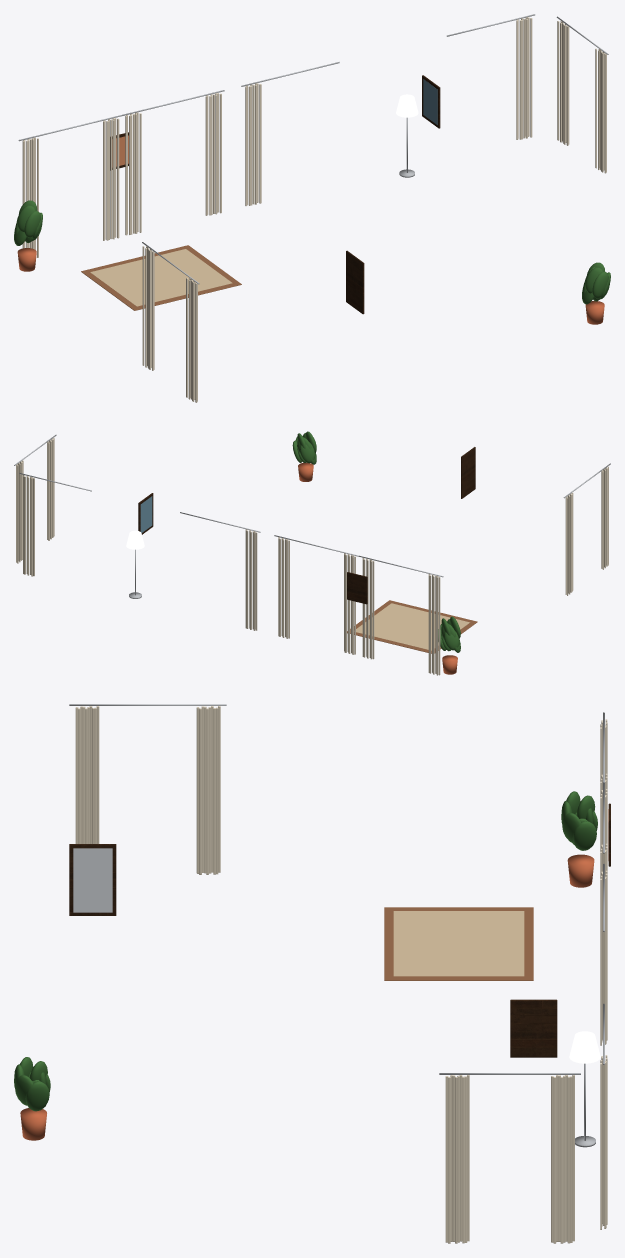
File: decor.glb
The picture shows the model from 3 angles, top to bottom: view 1: azimuth 30°, elevation 25°; view 2: azimuth 150°, elevation 25°; view 3: azimuth 270°, elevation 25°; orthographic projection. The views are drawn at different scales.
Parts seen in each view (by area): view 1: curtain_N1_3.0, rug_inner, curtain_N1_0.8, curtain_W1_1.4, curtain_E2_6.1, curtain_N3_9.6, curtain_N2_5.4, rug, mirror_frame, picture_art.001; view 2: curtain_N1_0.8, rug_inner, curtain_N1_3.0, curtain_W1_1.4, curtain_E2_6.1, curtain_N2_5.4, curtain_N3_9.6, rug, mirror_frame, picture_frame, picture_art.001; view 3: rug_inner, curtain_E2_6.1, curtain_W1_1.4, picture_frame.001, rug, mirror_art, curtain_N3_9.6, curtain_N2_5.4, mirror_frame, lamp_shade, pot, pot.001.
Boxes of the visible parts, <box> form: curtain_N1_3.0: <box>125,93,221,235</box>; rug_inner: <box>90,249,232,306</box>; curtain_N1_0.8: <box>22,118,119,257</box>; curtain_W1_1.4: <box>142,246,197,402</box>; curtain_E2_6.1: <box>557,21,606,173</box>; curtain_N3_9.6: <box>516,17,532,139</box>; curtain_N2_5.4: <box>245,83,261,205</box>; rug: <box>81,245,241,310</box>; mirror_frame: <box>346,250,364,314</box>; picture_art.001: <box>423,79,437,124</box>; curtain_N1_0.8: <box>362,558,440,675</box>; rug_inner: <box>354,603,469,650</box>; curtain_N1_3.0: <box>278,537,355,654</box>; curtain_W1_1.4: <box>565,466,608,595</box>; curtain_E2_6.1: <box>16,437,54,563</box>; curtain_N2_5.4: <box>245,529,257,630</box>; curtain_N3_9.6: <box>23,475,34,576</box>; rug: <box>347,600,477,653</box>; mirror_frame: <box>461,447,475,498</box>; picture_frame: <box>347,572,367,604</box>; picture_art.001: <box>140,496,152,532</box>; rug_inner: <box>393,911,524,976</box>; curtain_E2_6.1: <box>445,1075,574,1243</box>; curtain_W1_1.4: <box>75,706,220,874</box>; picture_frame.001: <box>510,999,557,1057</box>; rug: <box>384,907,533,980</box>; mirror_art: <box>73,848,112,912</box>; curtain_N3_9.6: <box>600,1055,607,1229</box>; curtain_N2_5.4: <box>600,870,607,1045</box>; mirror_frame: <box>69,844,116,915</box>; lamp_shade: <box>569,1031,600,1063</box>; pot: <box>567,854,594,887</box>; pot.001: <box>20,1108,46,1140</box>.
Size of the model in its own units: 11.17 by 2.39 by 7.58.
Materials: 11 (1 with a texture image).
